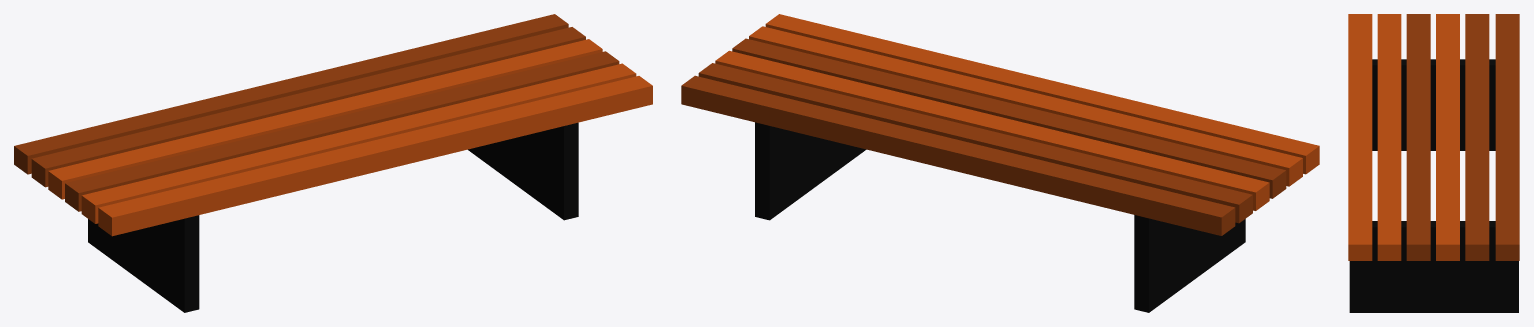
The model's file is bench2.obj.
The picture shows the model from 3 angles, left to right: view 1: azimuth 30°, elevation 25°; view 2: azimuth 150°, elevation 25°; view 3: azimuth 270°, elevation 25°; orthographic projection. The views are drawn at different scales.
Parts seen in each view (by area): view 1: bench2; view 2: bench2; view 3: bench2.
Boxes of the visible parts, x1,y1,x2,y2 form: bench2: (14, 14, 652, 312); bench2: (681, 14, 1319, 312); bench2: (1348, 14, 1519, 312).
Bounding box in the file's own units: 5.4 × 1.08 × 1.69.
